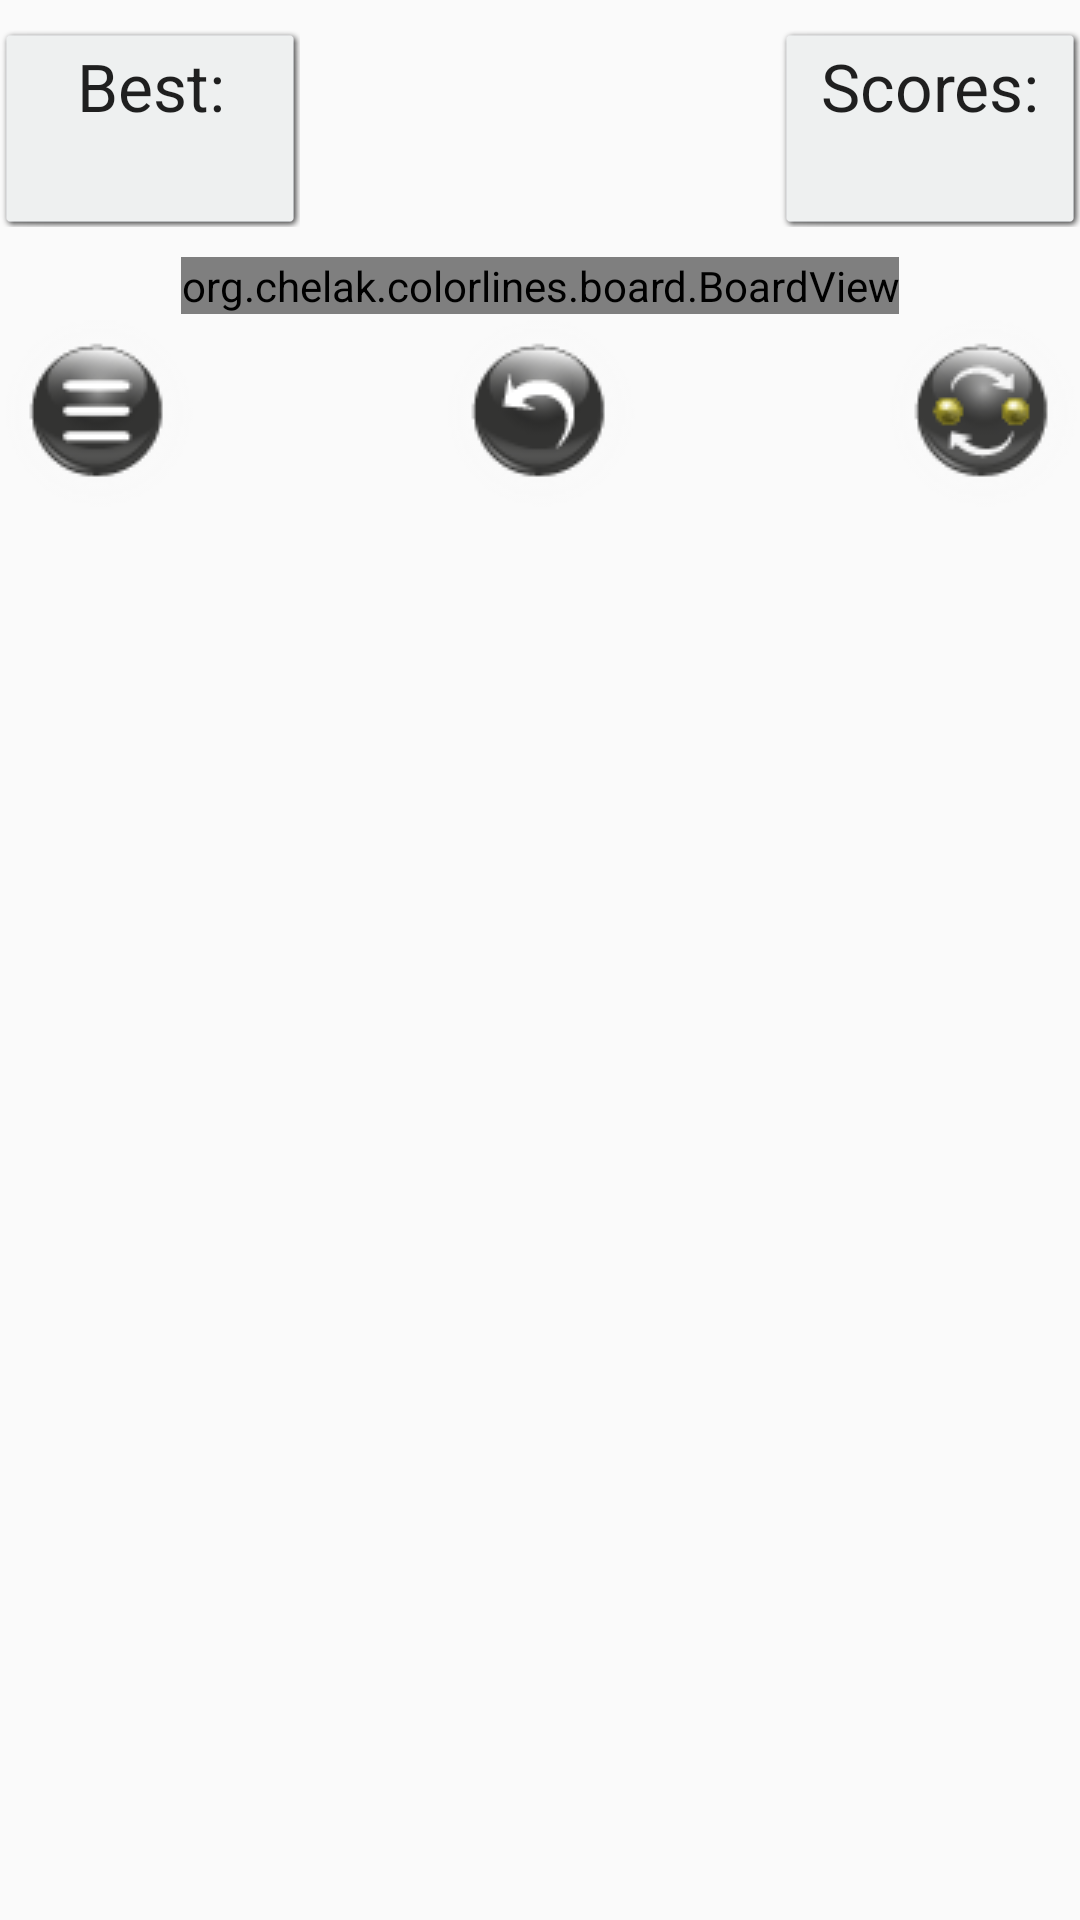

Screen size 1080*1920. Icon name, then its center in pixels as (x=x, y=y):
menu: (x=96, y=410)
teleport: (x=981, y=410)
undo: (x=538, y=410)
